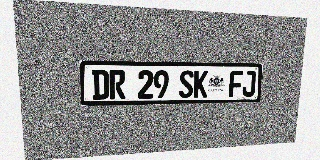2: (138, 70, 153, 99)
9: (154, 70, 169, 98)
D: (92, 70, 109, 100)
F: (229, 71, 243, 97)
J: (242, 71, 256, 97)
K: (193, 70, 208, 98)
R: (109, 70, 126, 99)
S: (179, 70, 194, 98)
